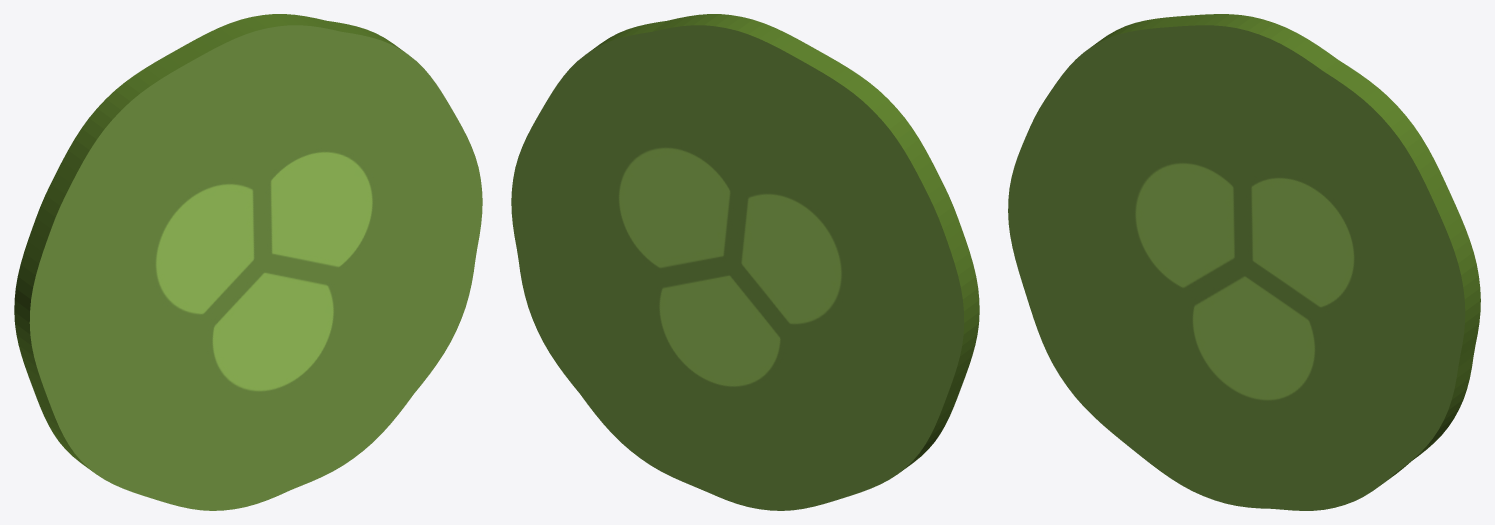
File: cucumber.fbx
3 renders of one model, left to right at view 1: azimuth 30°, elevation 25°; view 2: azimuth 150°, elevation 25°; view 3: azimuth 330°, elevation 25°, orthographic.
Parts seen in each view (by area): view 1: Cylinder.001; view 2: Cylinder.001; view 3: Cylinder.001.
Part boxes in pixels (x1,y1,x2,y2): Cylinder.001: (14, 14, 482, 510); Cylinder.001: (511, 14, 979, 510); Cylinder.001: (1008, 14, 1480, 510).
Size of the model in its own units: 492 by 492 by 29.08.
Materials: 1 (1 with a texture image).
